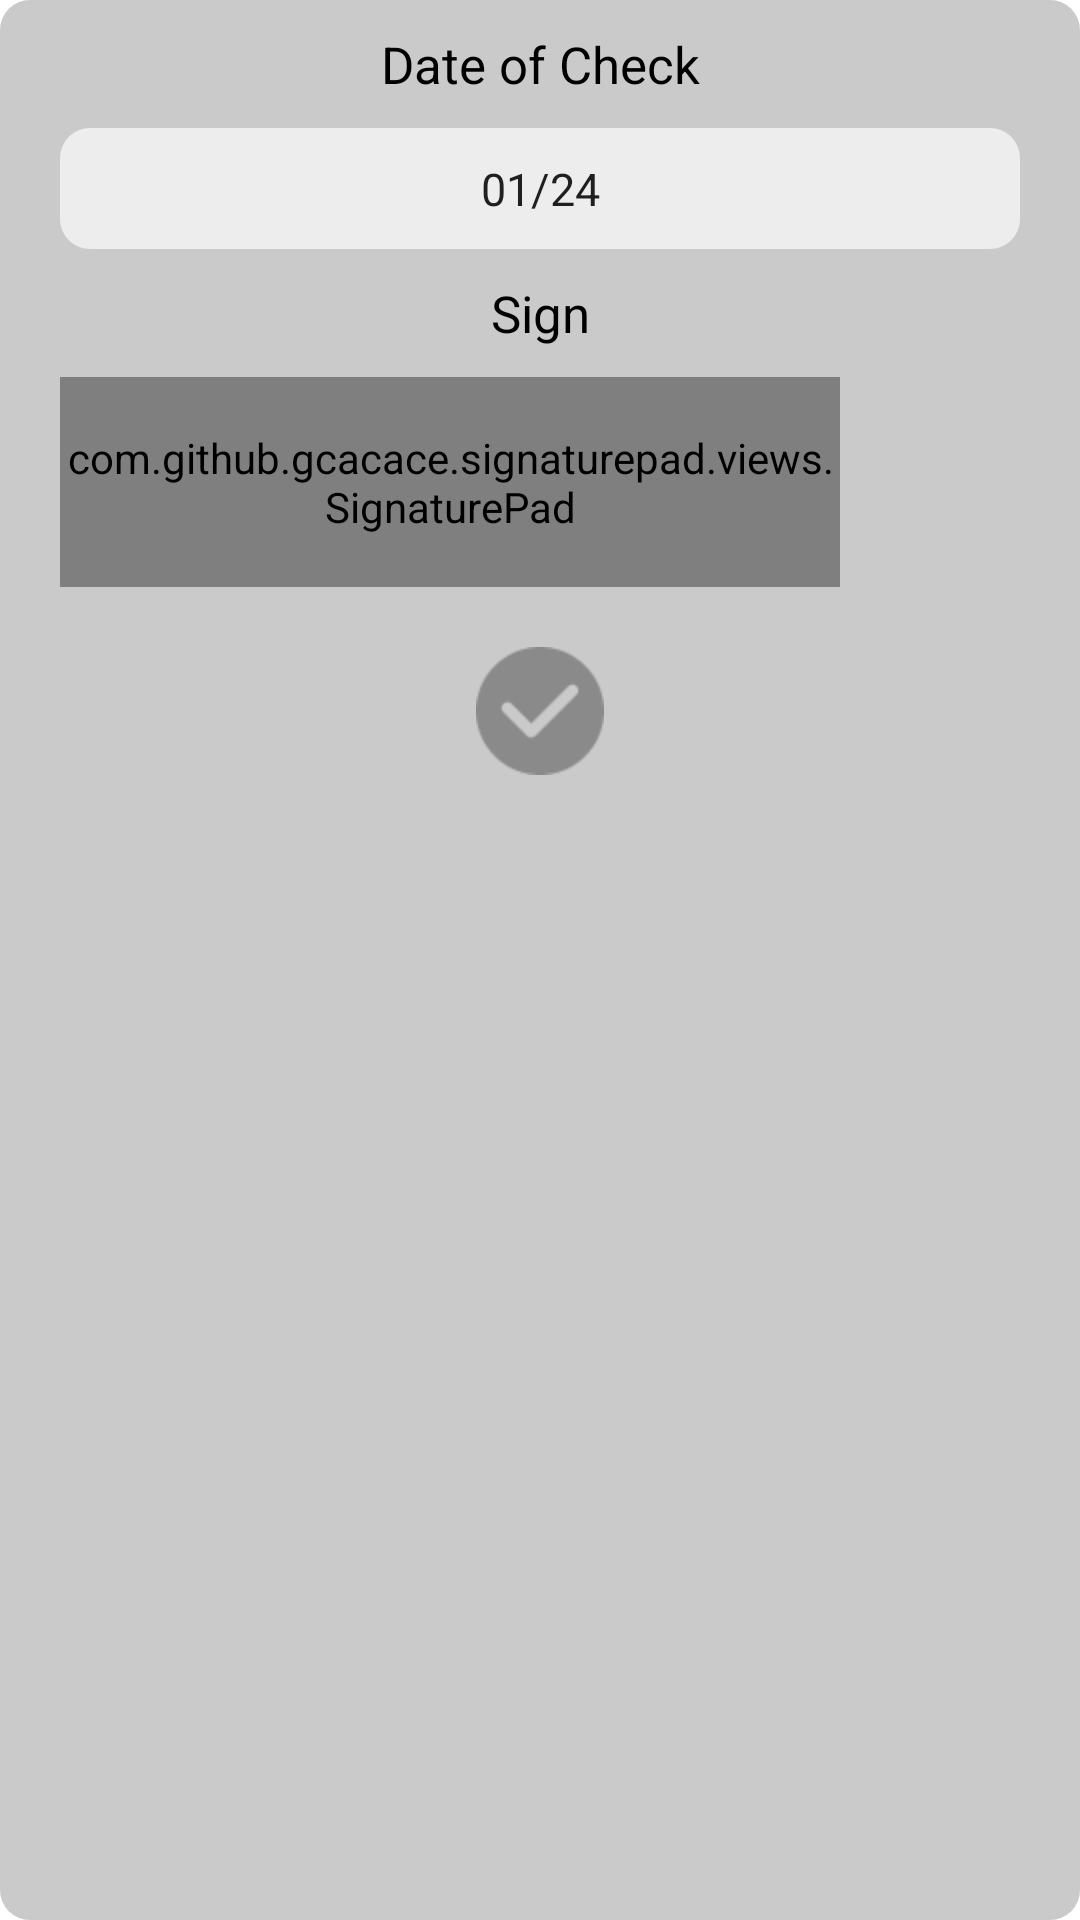

Screen size 1080w x 1920h. Icon name, then its center in pixels as (x,y):
gou: (540,711)
